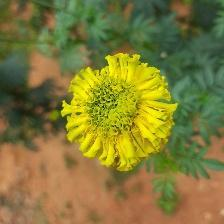marigold: (61, 50, 183, 173)
